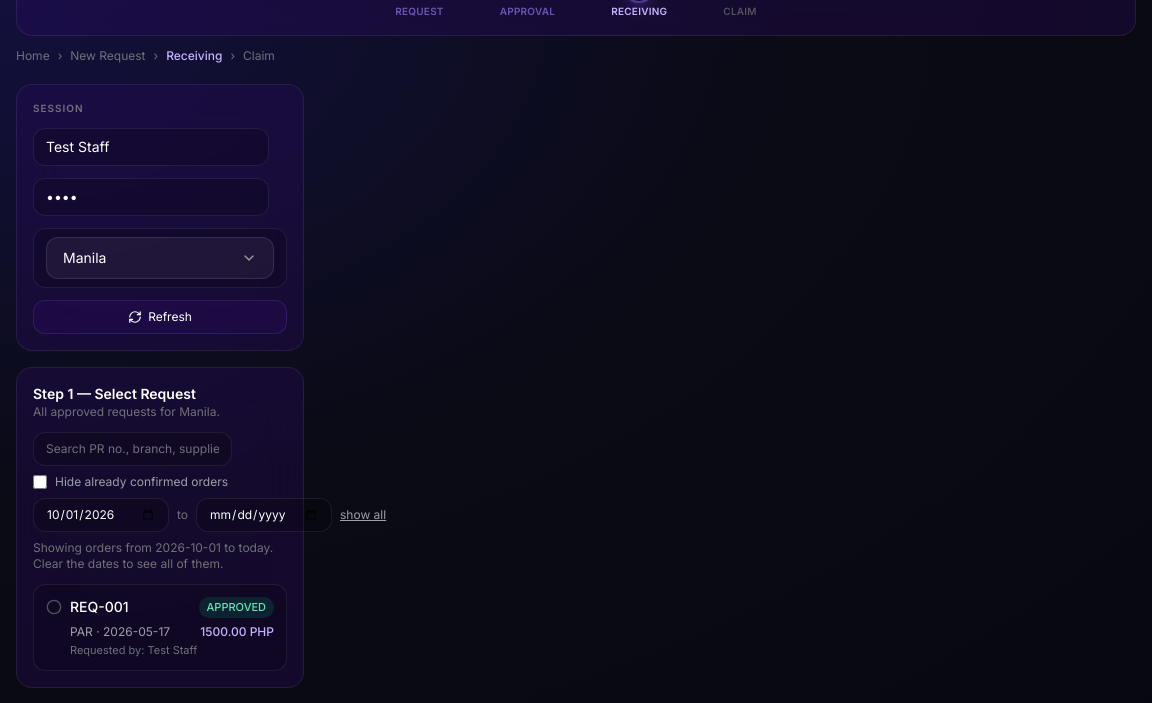
Test: Fix 4: Receiving page — All received 2-step guard › clicking 'Yes' checks all items and dismisses the confirmation
(page scrolled)
Click the text "REQ-001" at (99, 607), box 70,597 -> 129,617
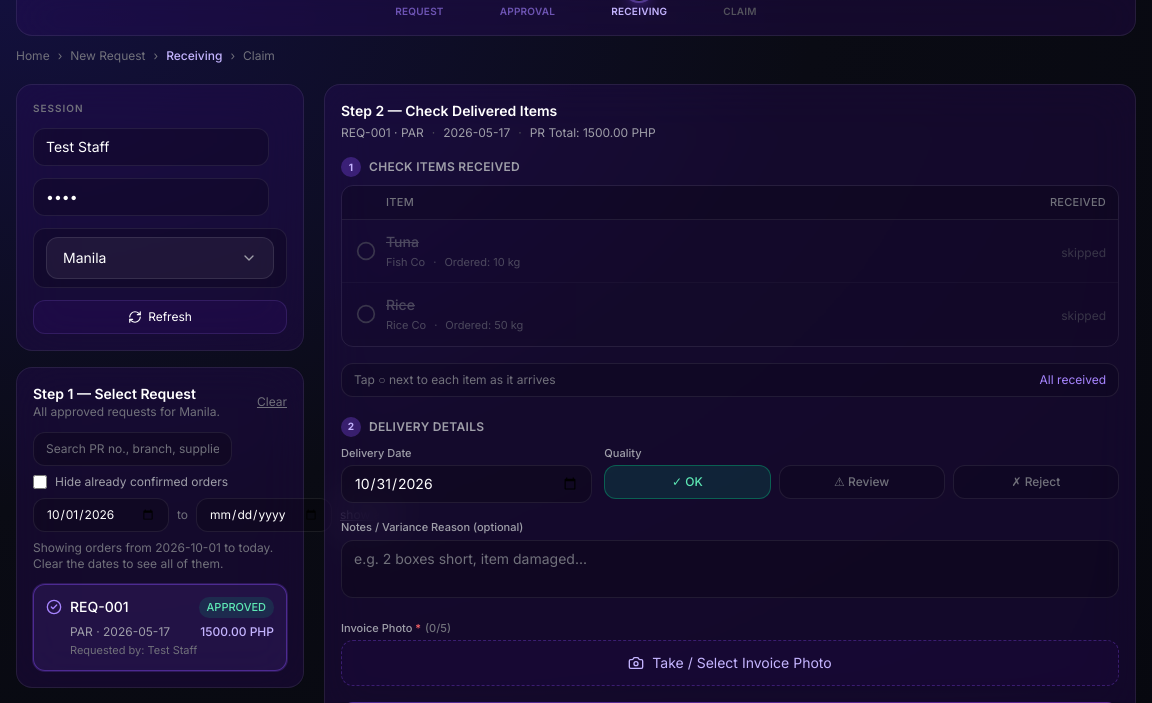
Expected: the text "Tuna" is shown, 386,232 -> 419,250
Click the button "All received" at (1073, 380), box 1040,372 -> 1106,388
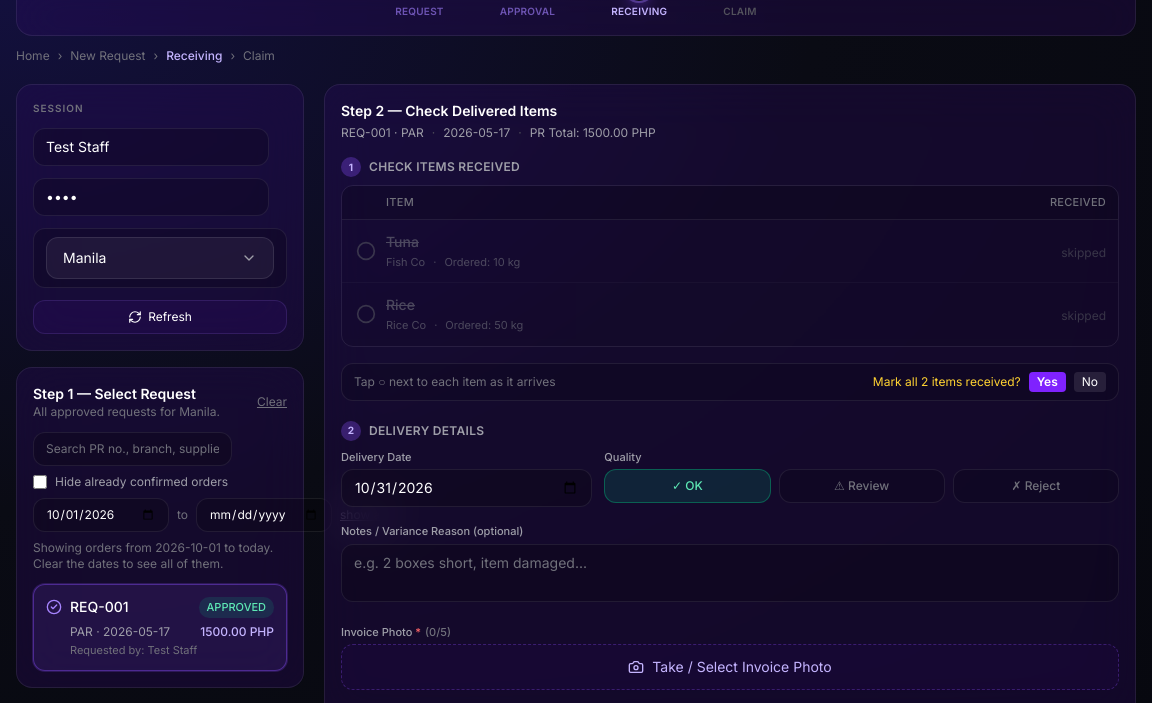
Expected: the button "Yes" is shown
Click the button "Yes" at (1047, 382), box 1029,372 -> 1066,392
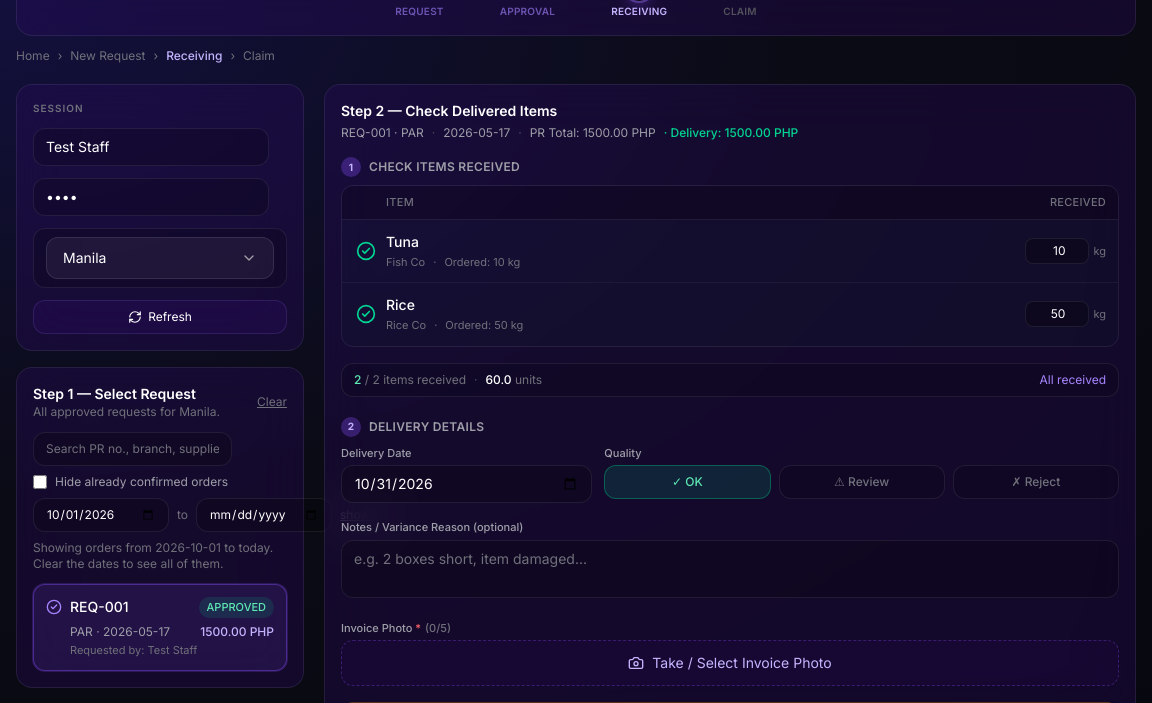
Expected: the text "Mark all 2 items received?" is gone
